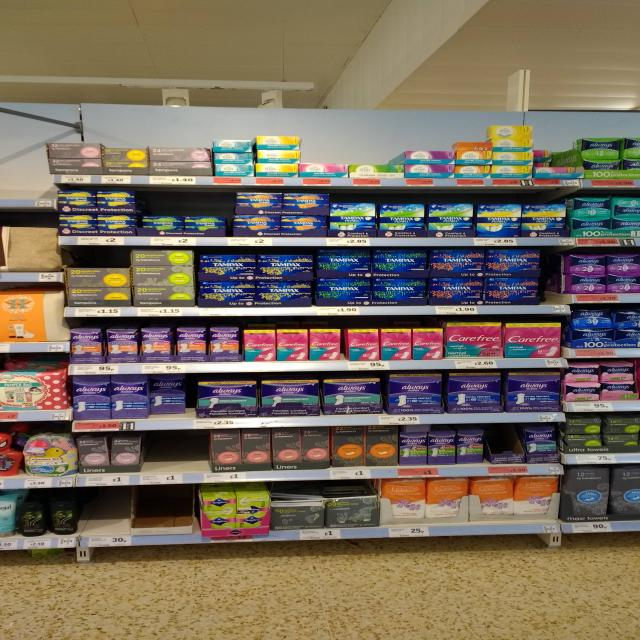void: (134, 488, 190, 546), (143, 431, 200, 484), (86, 484, 128, 546)
